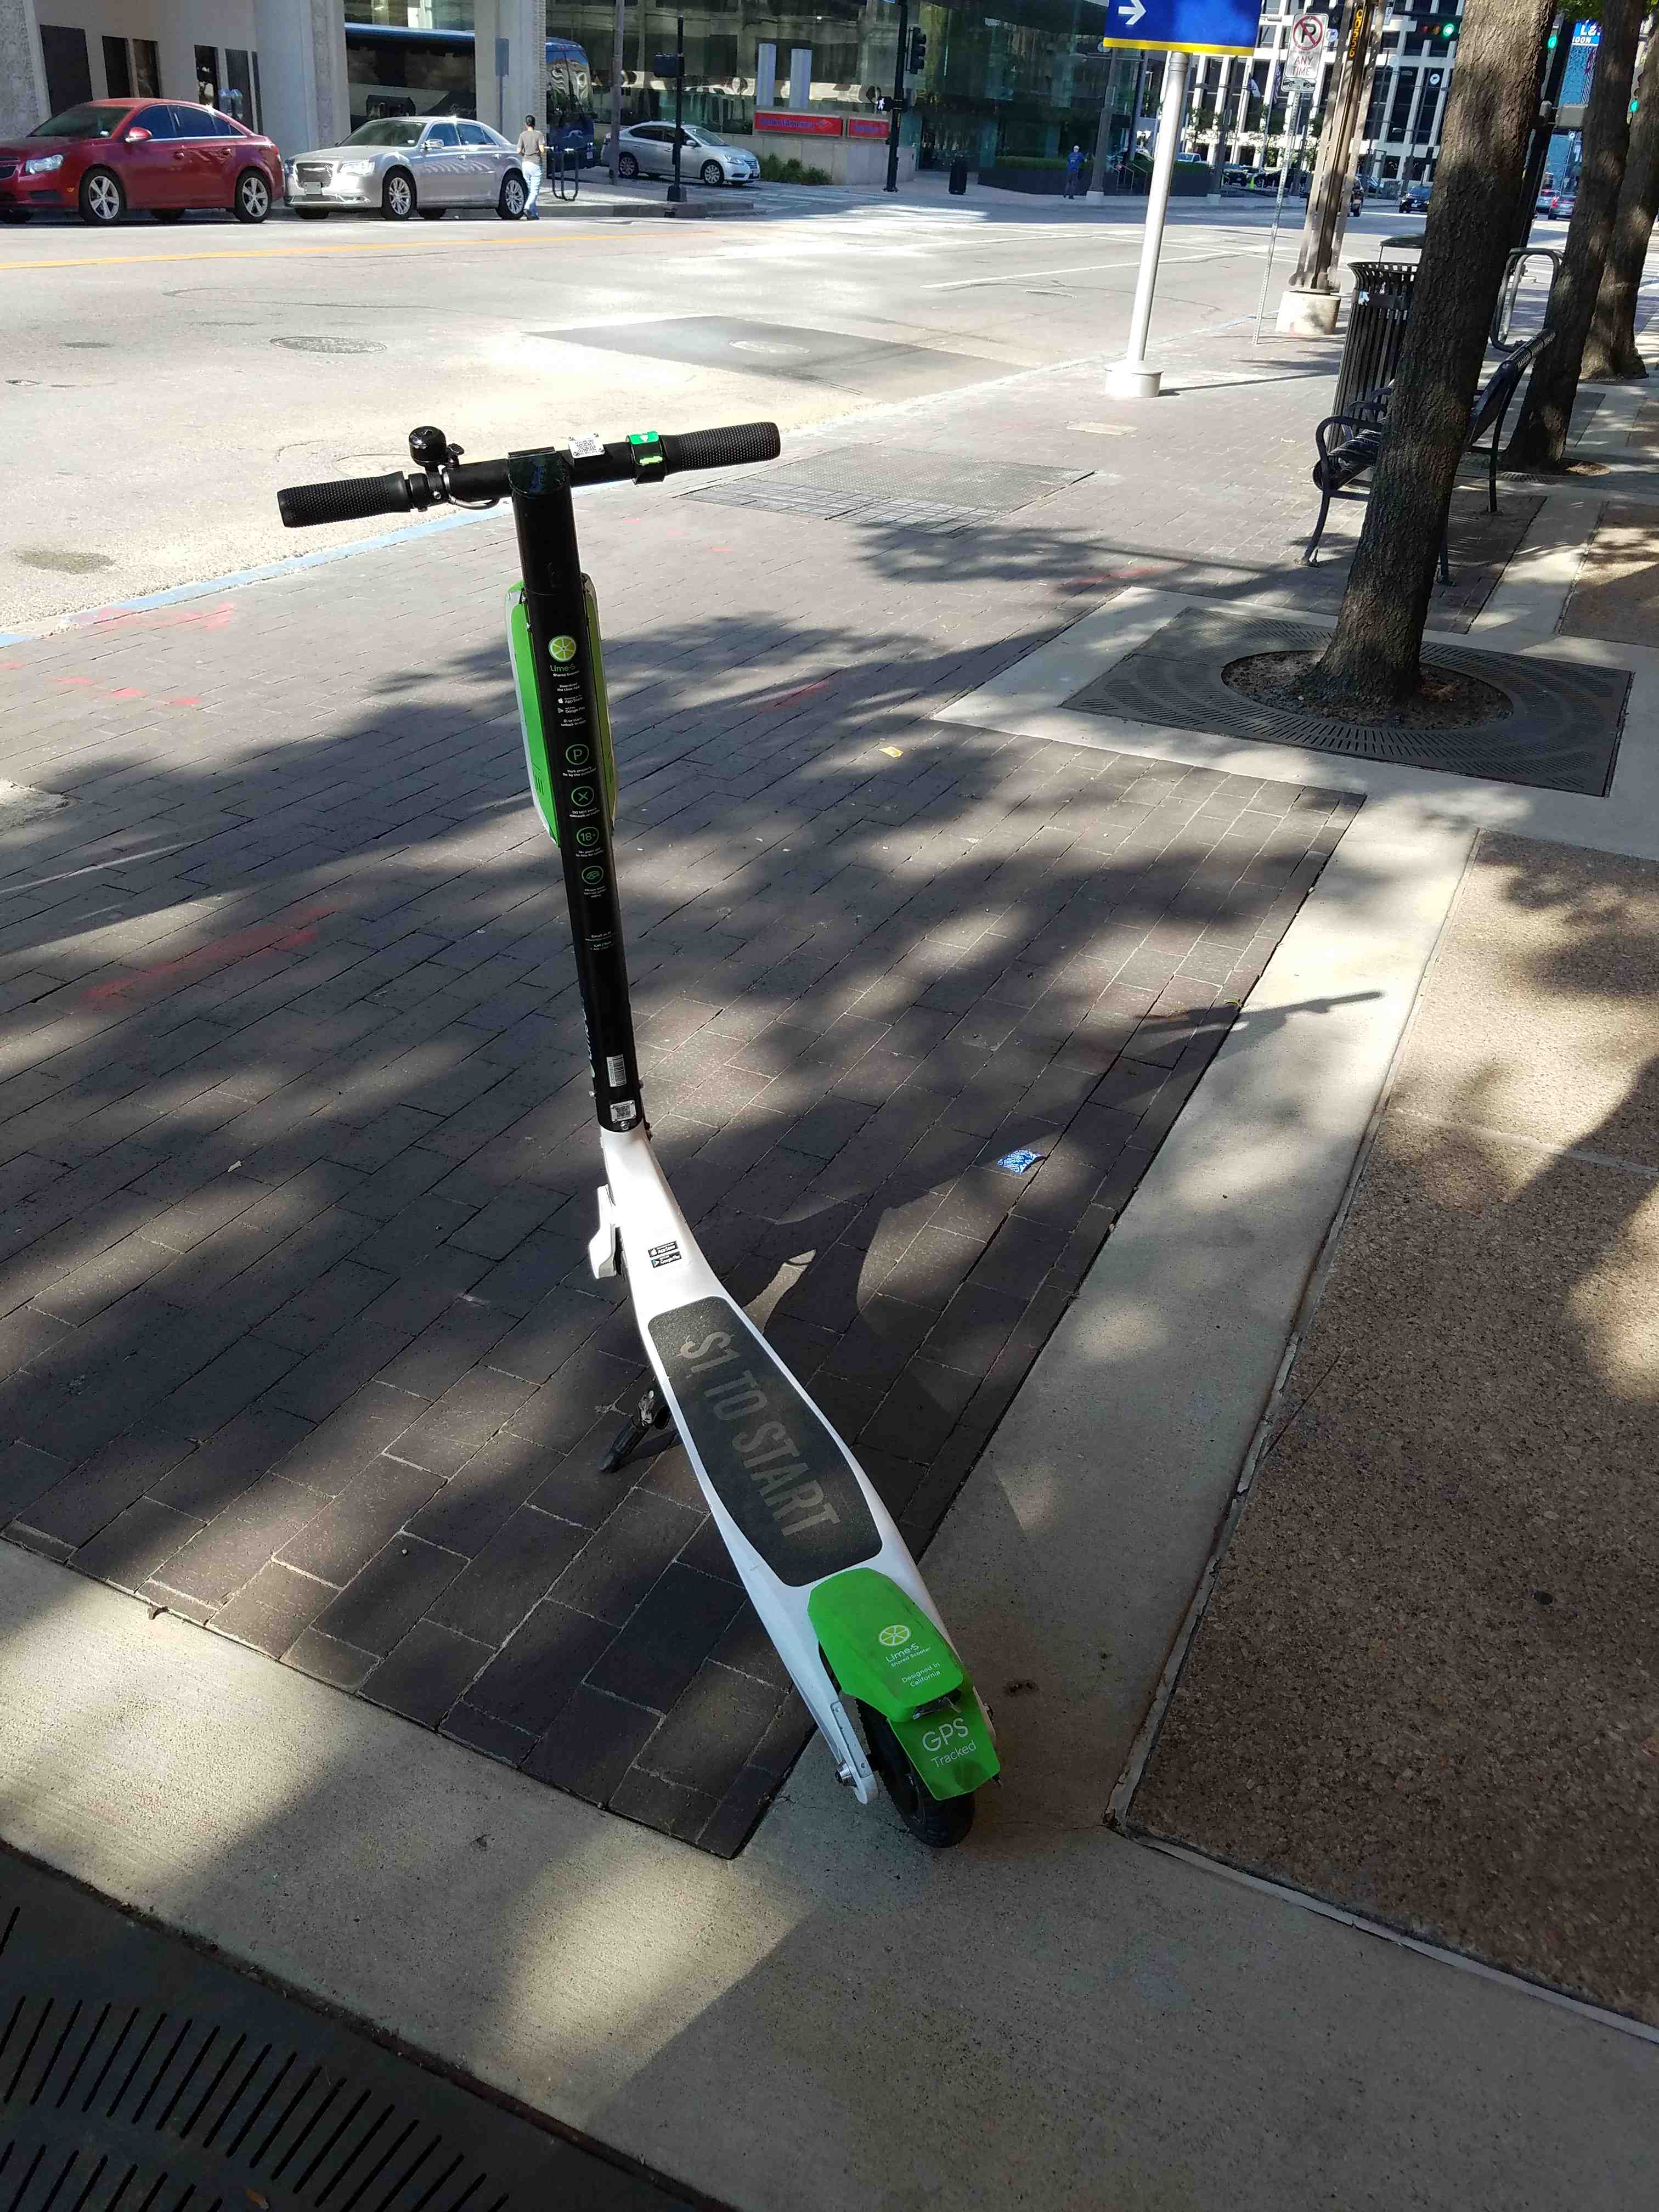scooter: (234, 361, 1032, 1865)
